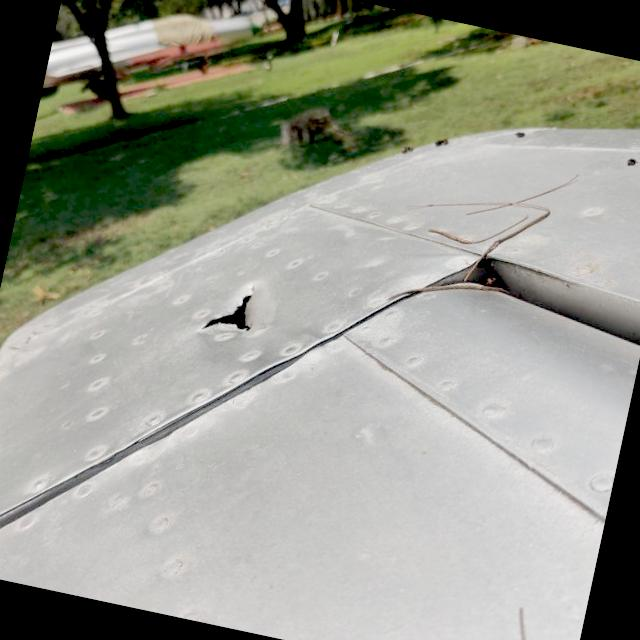crack: (184, 263, 278, 355)
